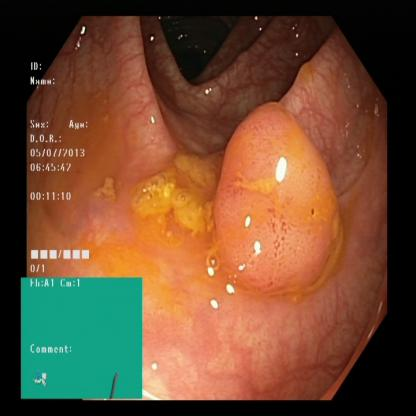Labels: (28, 58, 105, 278), (23, 278, 143, 397)
Polyps: (221, 124, 343, 278), (138, 146, 214, 231)
